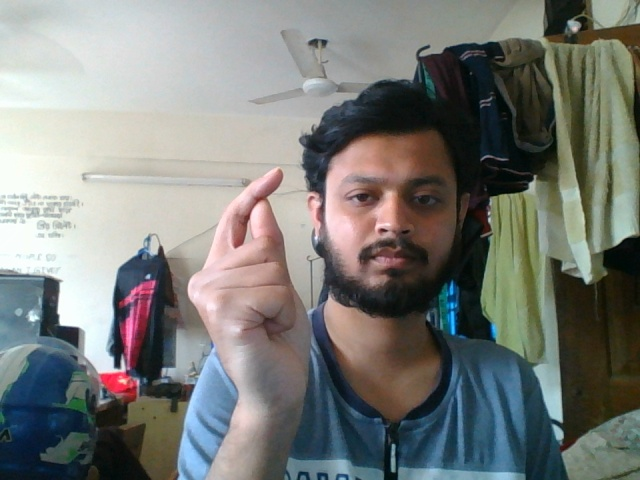tha: (183, 155, 319, 448)
